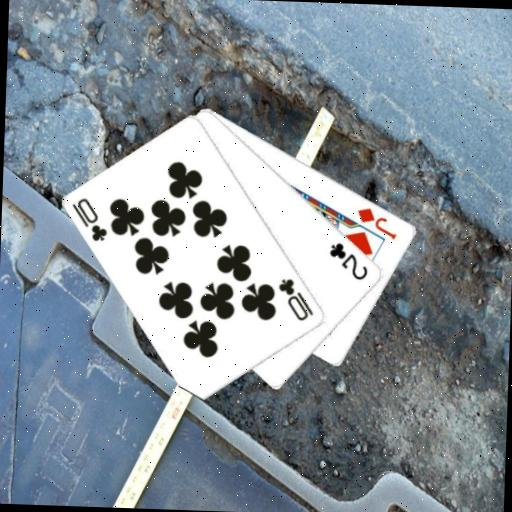10C: (67, 194, 110, 243), (274, 275, 317, 323)
2C: (325, 238, 370, 282)
JD: (354, 203, 400, 241)
